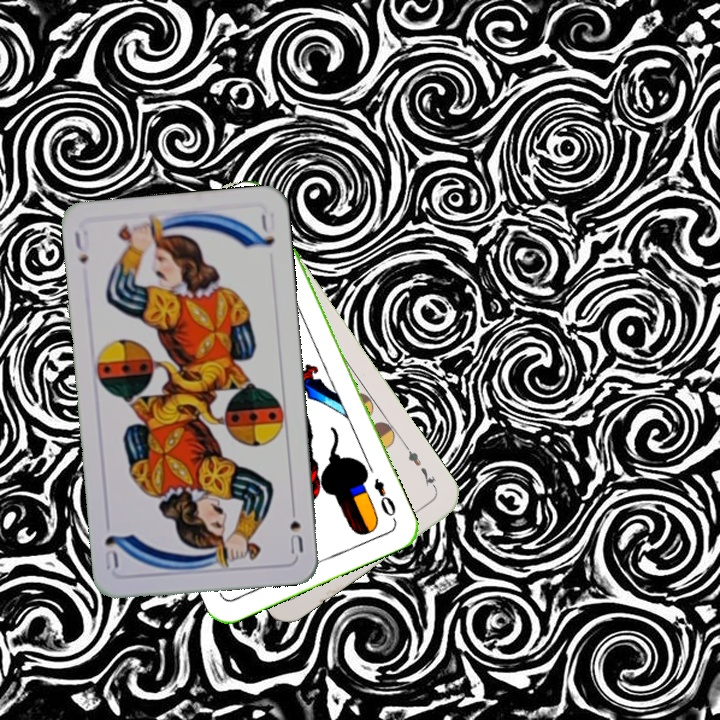E7: (401, 441, 440, 493)
EO: (369, 474, 399, 524)
SU: (285, 499, 306, 556), (70, 226, 92, 266)
